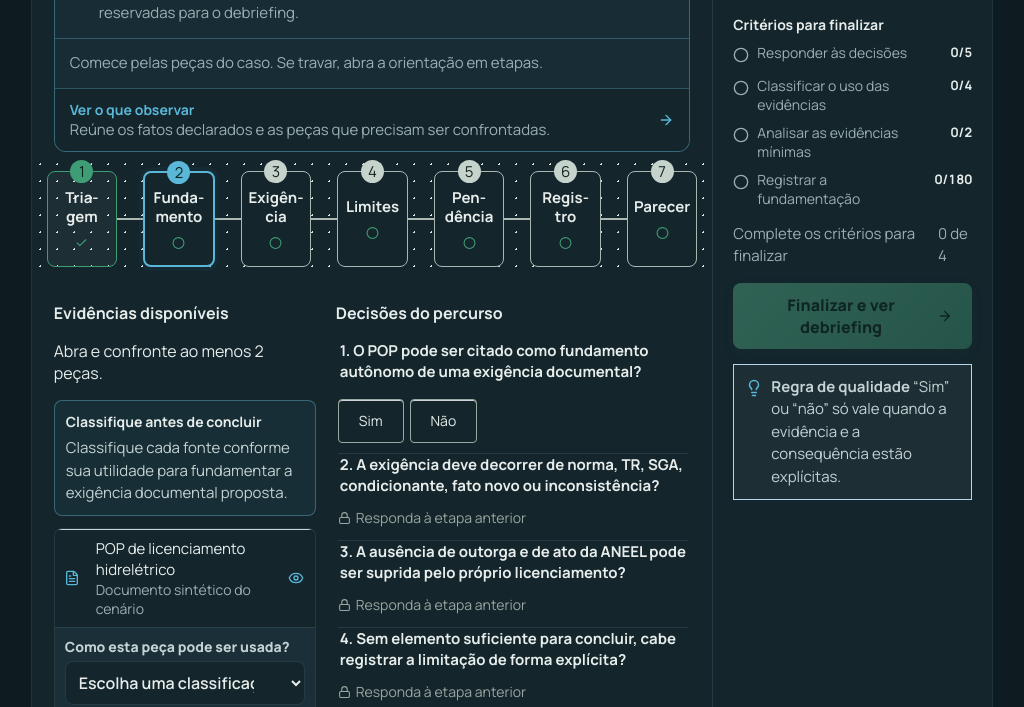
Test: persistência da tentativa no Laboratório › mostra os quatro fatos e restaura uma resposta salva como Em andamento
(page scrolled)
Click the button "Sim": (371, 421) [338,399,404,443]
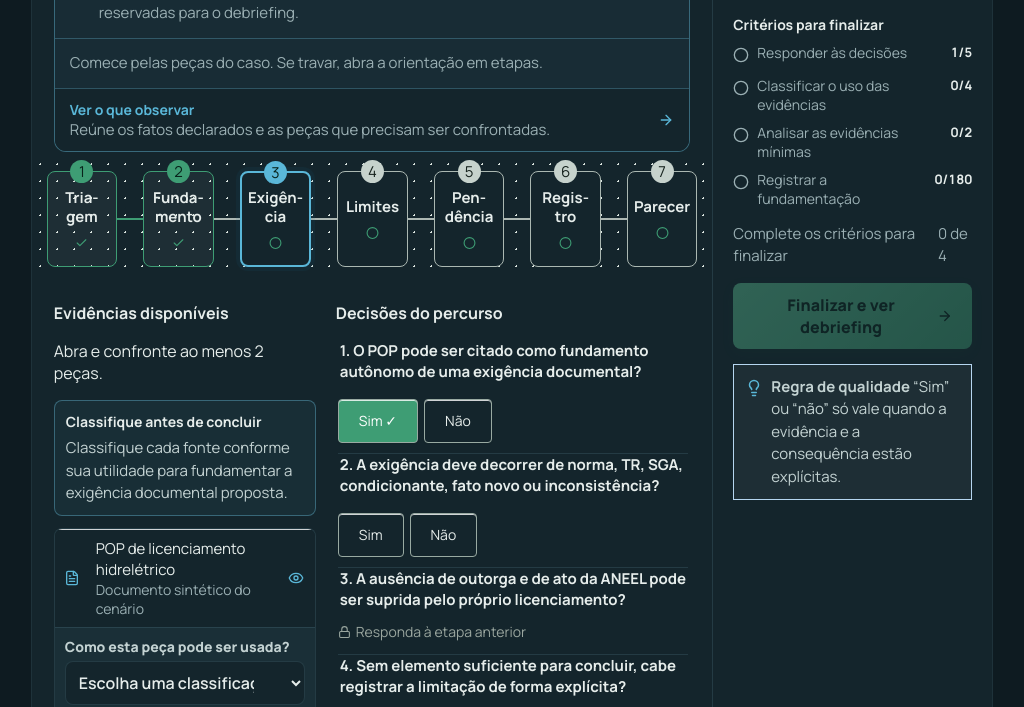
Select "Orienta o método, mas não prova o caso" in the dropdown labelled "Como esta peça pode ser usada?": (185, 683) [65,661,305,705]
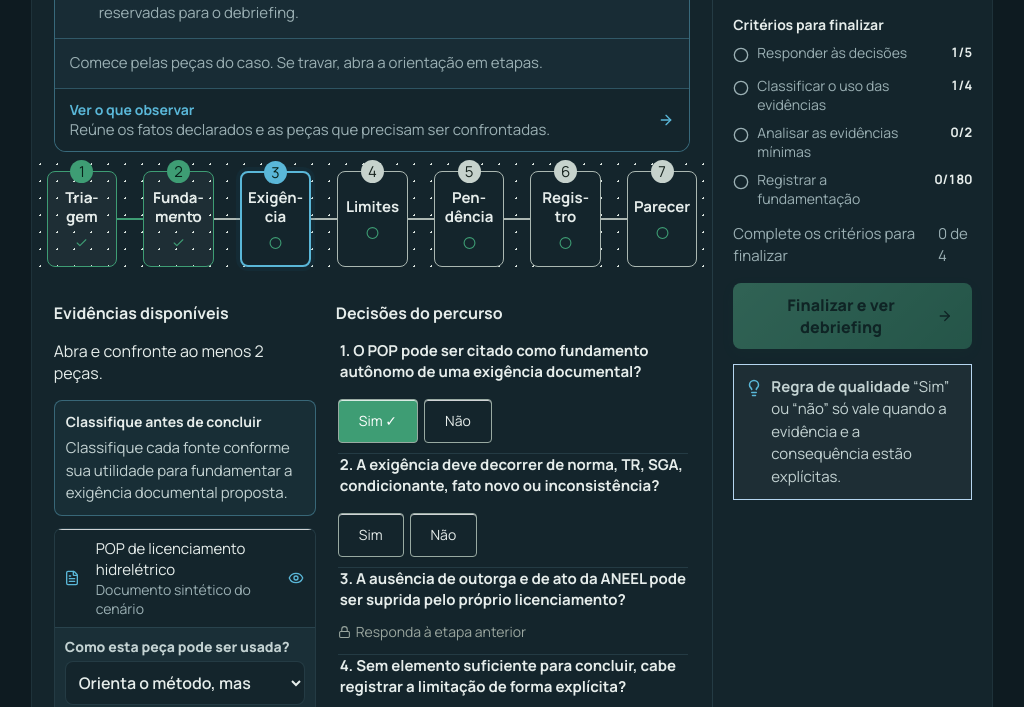
expect the dropdown labelled "Como esta peça pode ser usada?" shows "Orienta o método, mas não prova o caso": met, box [65,661,305,705]
